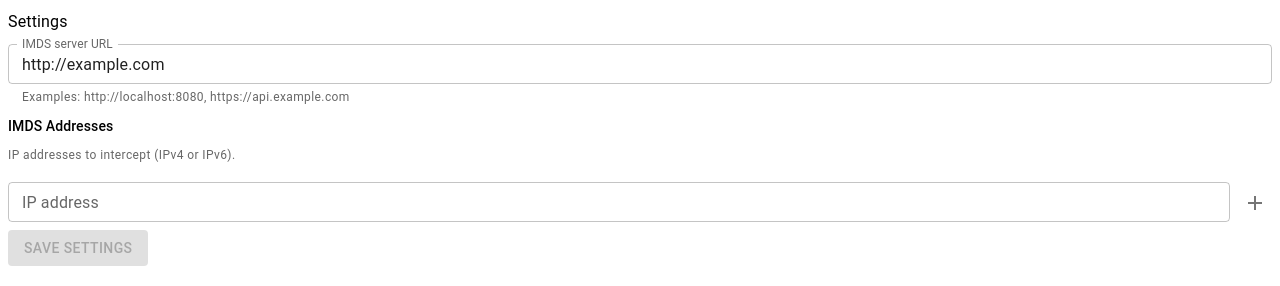
Test: SettingsForm › validates required URL before saving
Clear the field labelled "IMDS server URL": (640, 64) [8,44,1272,84]
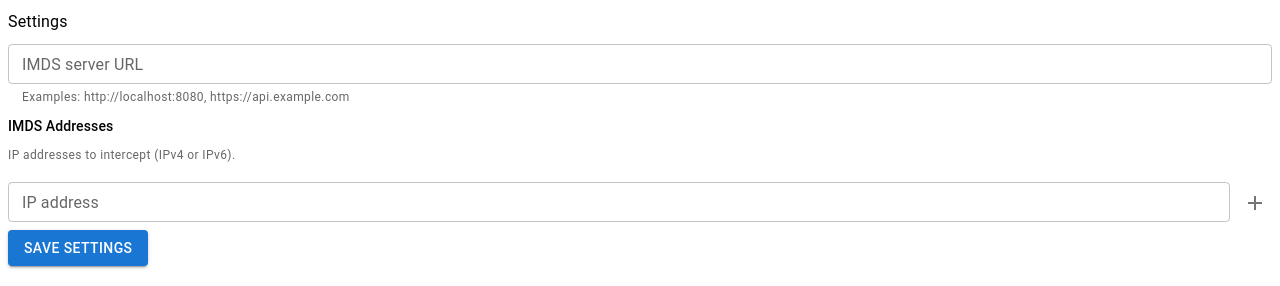
Click the button "Save Settings": (78, 248) [8,230,148,266]
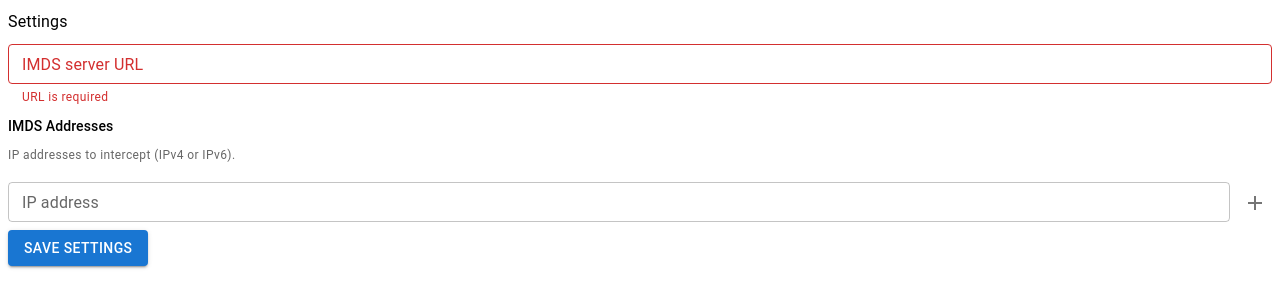
Check: the text "URL is required" is shown, box [22,90,108,104]
